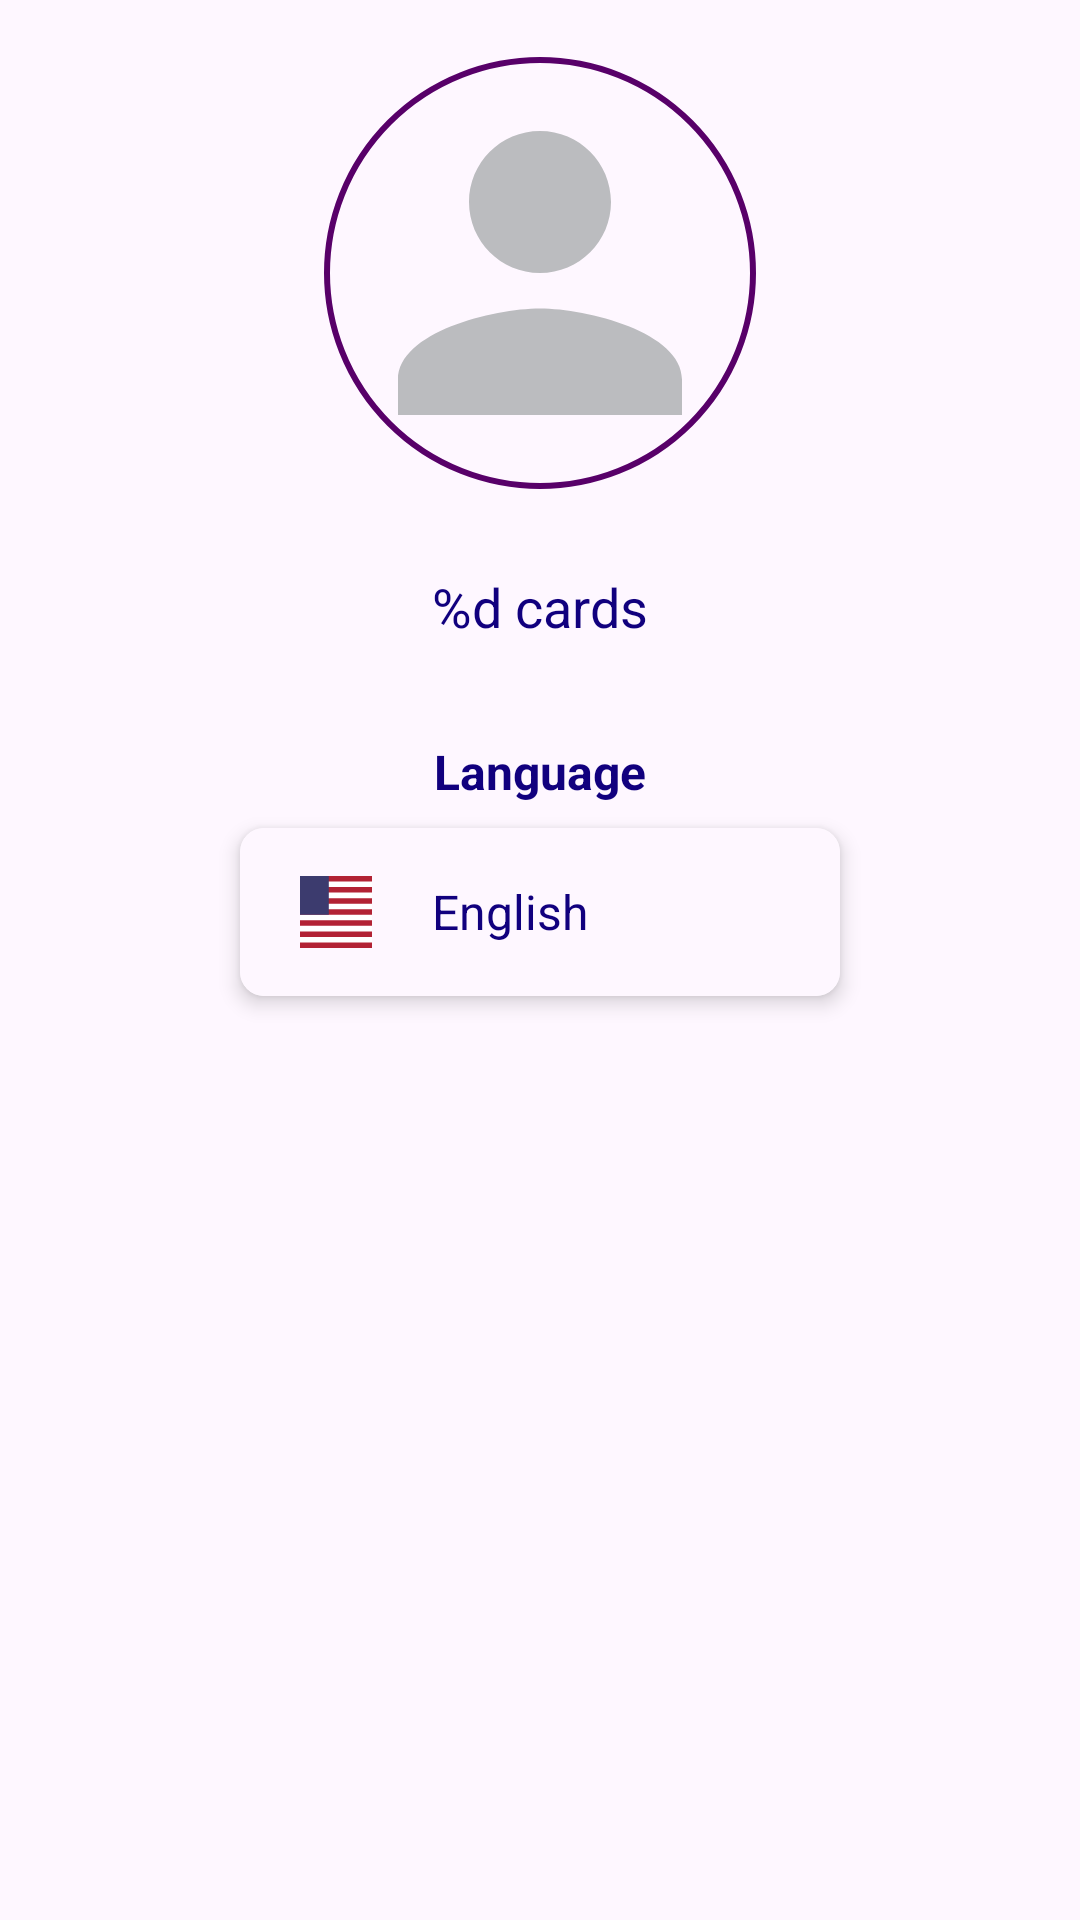

Screen size 1080px x 1920px. Icon name, then its box in pixels as (x1, y1, x2, y2):
flag us: (300, 876, 372, 948)
